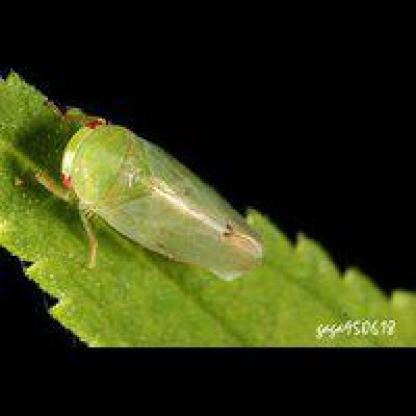Green-Leafhopper: (27, 95, 267, 284)
